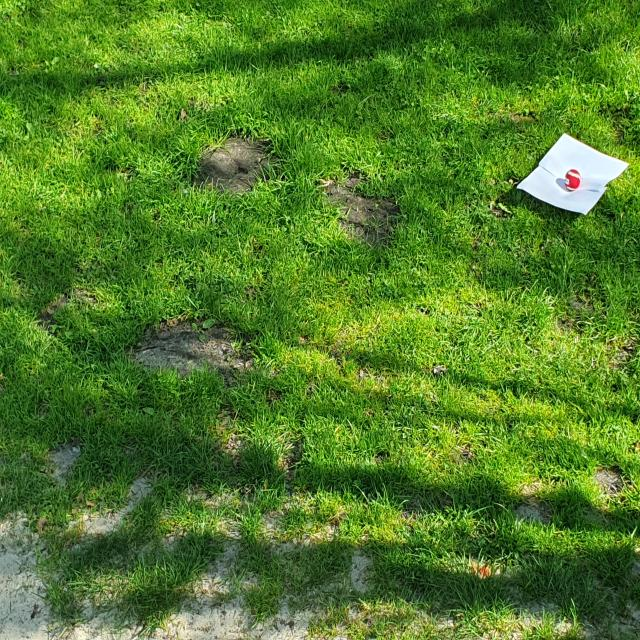red: (564, 169, 581, 191)
